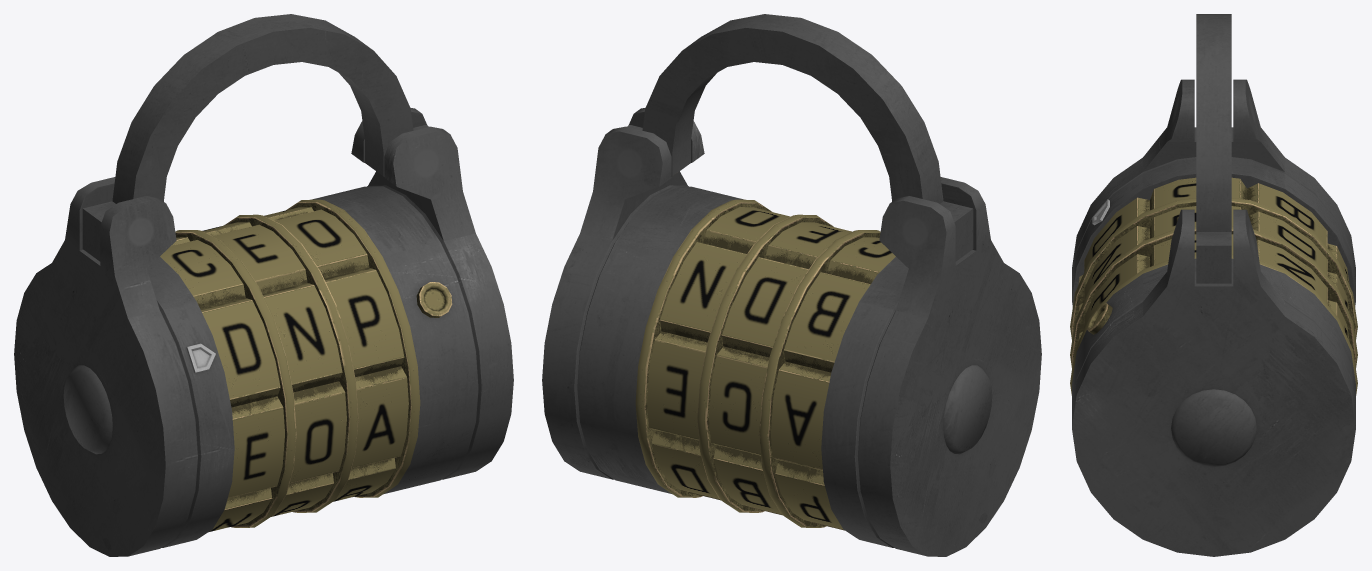
Rendered from Lock27.glb.
The picture shows the model from 3 angles, left to right: view 1: azimuth 30°, elevation 25°; view 2: azimuth 150°, elevation 25°; view 3: azimuth 270°, elevation 25°; orthographic projection. The views are drawn at different scales.
Parts seen in each view (by area): view 1: Cylinder; view 2: Cylinder; view 3: Cylinder.
Part boxes in pixels (left/top/right/bottom): Cylinder: left=14, top=14, right=513, bottom=556; Cylinder: left=542, top=14, right=1041, bottom=556; Cylinder: left=1070, top=14, right=1357, bottom=556.
Size of the model in its own units: 0.1314 by 0.1681 by 0.0972.
Materials: 1 (1 with a texture image).
